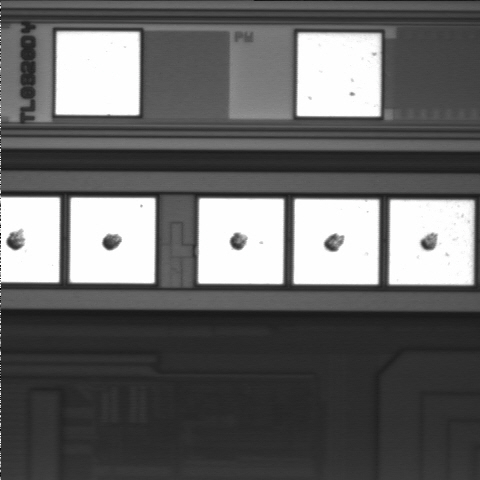pad: (198, 198, 284, 284), (70, 198, 155, 283), (294, 199, 379, 284), (389, 200, 474, 285), (56, 32, 140, 115), (297, 33, 381, 116)
